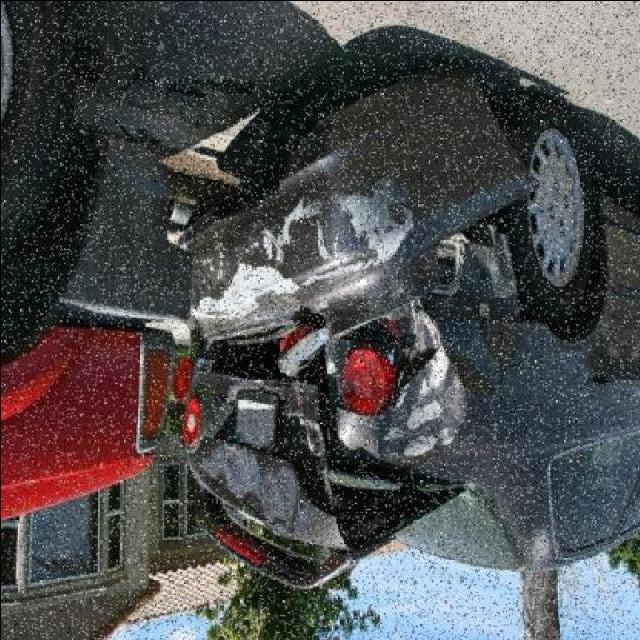quaterpanel-dent: (393, 281, 574, 460)
rear-bumper-dent: (249, 79, 517, 306)
